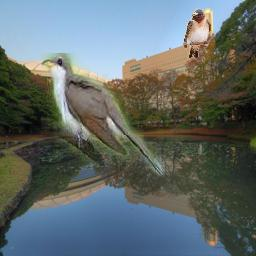Cuckoo: (41, 54, 165, 177)
Swallow: (183, 8, 211, 58)
